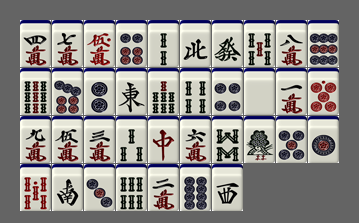0m: (84, 20, 115, 67)
0p: (308, 68, 339, 115)
0s: (20, 164, 51, 211)
1m: (276, 68, 307, 115)
1p: (308, 116, 339, 163)
1s: (244, 116, 275, 163)
1z: (116, 68, 147, 115)
2m: (148, 164, 179, 211)
2p: (84, 68, 115, 115)
2s: (148, 20, 179, 67)
2z: (52, 164, 83, 211)
3m: (84, 116, 115, 163)
3p: (84, 164, 115, 211)
3s: (116, 116, 147, 163)
3z: (212, 164, 243, 211)
4m: (20, 20, 51, 67)
4p: (212, 68, 243, 115)
4s: (180, 68, 211, 115)
4z: (180, 20, 211, 67)
5m: (52, 116, 83, 163)
5p: (276, 116, 307, 163)
5s: (244, 20, 275, 67)
5z: (244, 68, 275, 115)
6m: (180, 116, 211, 163)
6p: (116, 20, 147, 67)
6s: (116, 164, 147, 211)
6z: (212, 20, 243, 67)
7m: (52, 20, 83, 67)
7p: (52, 68, 83, 115)
7s: (148, 68, 179, 115)
7z: (148, 116, 179, 163)
8m: (276, 20, 307, 67)
8p: (180, 164, 211, 211)
8s: (212, 116, 243, 163)
9m: (20, 116, 51, 163)
9p: (308, 20, 339, 67)
9s: (20, 68, 51, 115)
